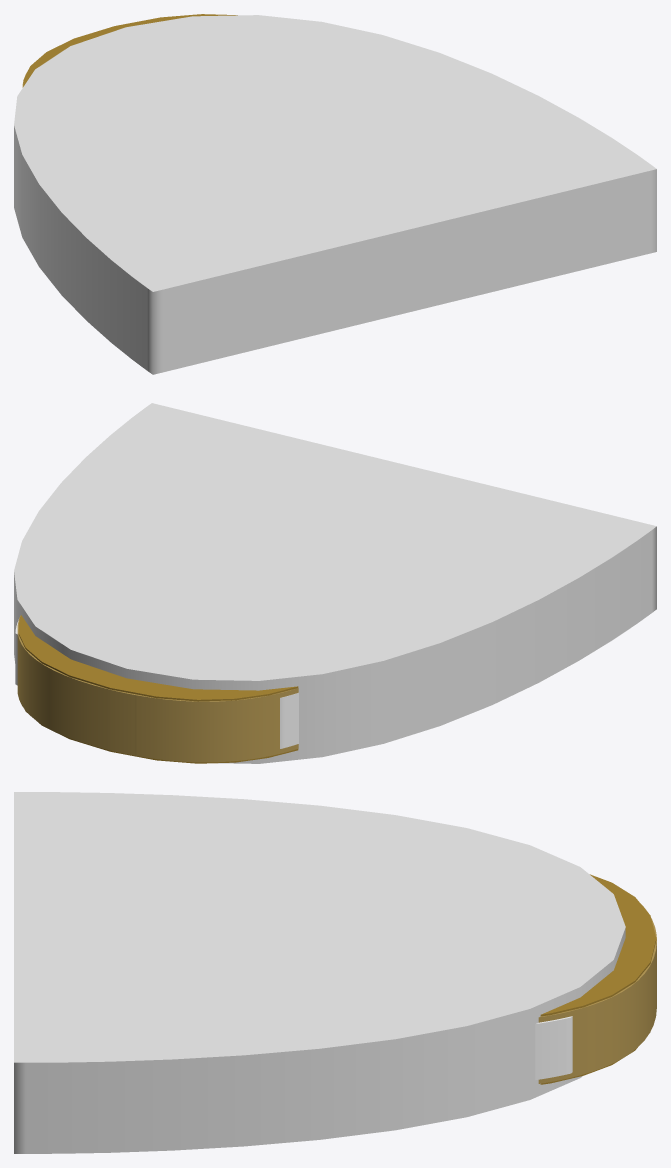
File: emoji_u1f470_1f3fc_200d_2642.glb
3 renders of one model, top to bottom at view 1: azimuth 30°, elevation 25°; view 2: azimuth 150°, elevation 25°; view 3: azimuth 270°, elevation 25°, orthographic. The views are drawn at different scales.
Visible parts, largest first — view 1: emoji_u1f470_1f3fc_200d_2642; view 2: emoji_u1f470_1f3fc_200d_2642; view 3: emoji_u1f470_1f3fc_200d_2642.
Part boxes in pixels (left/top/right/bottom): emoji_u1f470_1f3fc_200d_2642: left=14, top=14, right=656, bottom=374; emoji_u1f470_1f3fc_200d_2642: left=14, top=403, right=656, bottom=763; emoji_u1f470_1f3fc_200d_2642: left=14, top=792, right=656, bottom=1153.
Size of the model in its own units: 0.0331 by 0.0052 by 0.0333.
